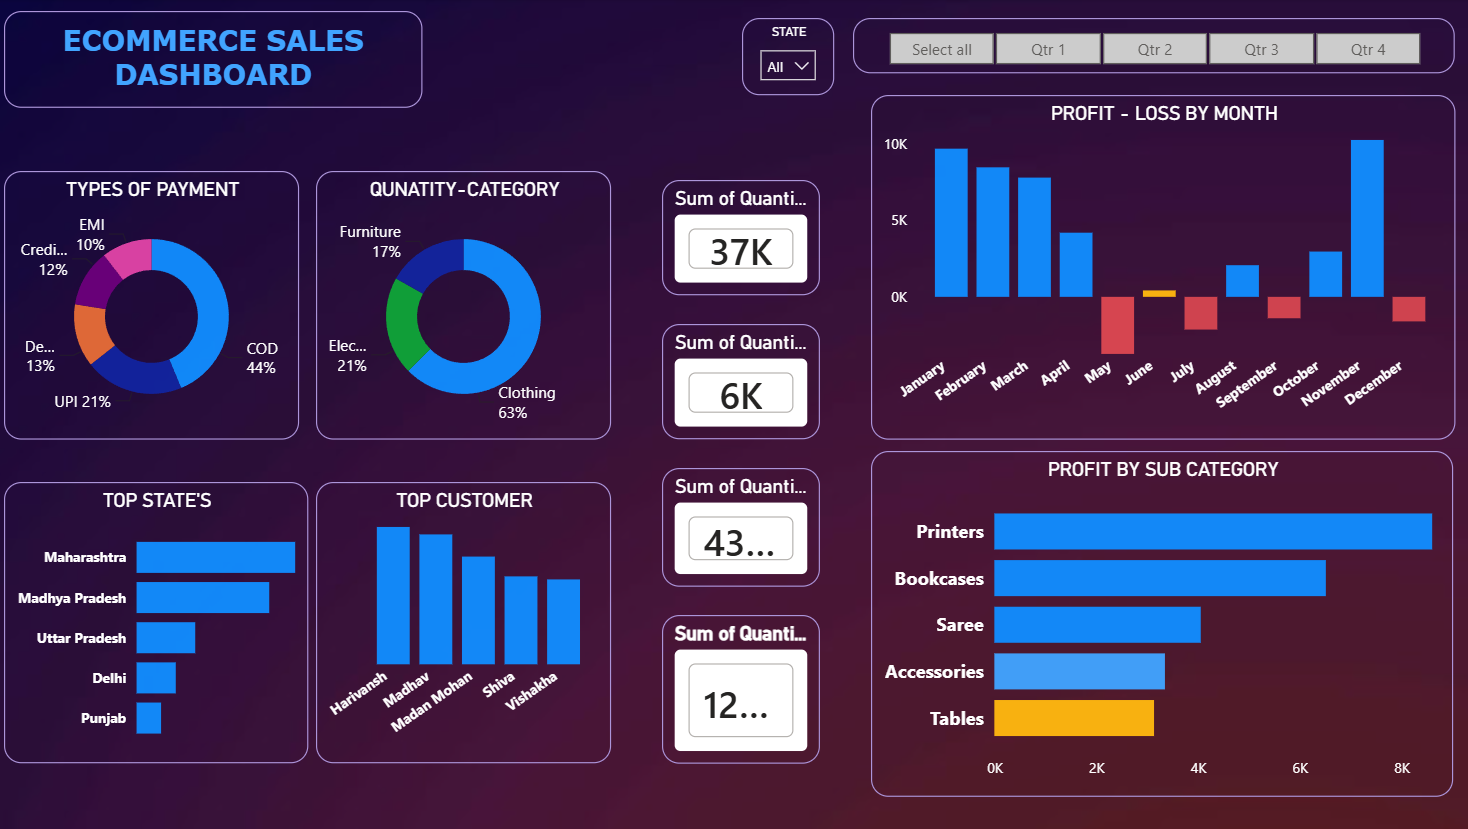

Layout of this report page (visuals, bound fields, positions):
{"tool":"powerbi","page":{"name":"e-commerce dashboard","canvas":[1280,720],"ordinal":0},"visuals":[{"type":"columnChart","title":"PROFIT - LOSS BY MONTH","fields":{"Y":["Sum(Details (1).Profit)"],"Category":["order id.Order Date.Variation.Date Hierarchy.Month"]},"box":[758.7,83.6,506.7,298.6],"z":0},{"type":"barChart","title":"PROFIT BY SUB CATEGORY","fields":{"Category":["Details (1).Sub-Category"],"Y":["Sum(Details (1).Profit)"]},"box":[758.7,392,504.8,299.6],"z":1000},{"type":"donutChart","title":"QUNATITY-CATEGORY","fields":{"Category":["Details (1).Category"],"Y":["Sum(Details (1).Quantity)"]},"box":[277.2,148.8,255.8,233.4],"z":2000},{"type":"donutChart","title":"TYPES OF PAYMENT ","fields":{"Category":["Details (1).PaymentMode"],"Y":["Sum(Details (1).Quantity)"]},"box":[6.8,148.8,255.8,233.4],"z":3000},{"type":"cardVisual","title":"Sum of Quantity","fields":{"Data":["Sum(Details (1).Quantity)"]},"box":[577.8,282.1,137.1,100.2],"z":4000},{"type":"cardVisual","title":"Sum of Quantity","fields":{"Data":["Sum(Details (1).Profit)"]},"box":[577.8,156.6,137.1,100.2],"z":5000},{"type":"barChart","title":"TOP STATE''S","fields":{"Category":["order id.State"],"Y":["Sum(Details (1).Amount)"]},"box":[6.8,419.2,263.6,244.1],"z":6000},{"type":"columnChart","title":"TOP CUSTOMER","fields":{"Category":["order id.CustomerName"],"Y":["Sum(Details (1).Amount)"]},"box":[277.2,419.2,255.8,244.1],"z":7000},{"type":"slicer","fields":{"Values":["order id.Order Date.Variation.Date Hierarchy.Quarter"]},"box":[743.1,16.5,522.3,47.7],"z":8000},{"type":"slicer","title":"STATE","fields":{"Values":["order id.State"]},"box":[646.8,16.5,79.8,67.1],"z":9000},{"type":"cardVisual","title":"Sum of Quantity","fields":{"Data":["Sum(Details (1).Amount)"]},"box":[577.8,406.6,137.1,103.1],"z":10000},{"type":"cardVisual","title":"Sum of Quantity","fields":{"Data":["Sum(Details (1).average)"]},"box":[577.8,534,137.1,129.4],"z":11000},{"type":"textbox","box":[6.8,10.7,362.8,83.6],"z":12000}]}

Visuals, with their boxes in screenshot pixels (x1, y1, x2, y2), scaled from the page's 1280x720 canvas onto the 1468x829 screenshot:
"PROFIT - LOSS BY MONTH" columnChart: left=870, top=96, right=1451, bottom=440
"PROFIT BY SUB CATEGORY" barChart: left=870, top=451, right=1449, bottom=796
"QUNATITY-CATEGORY" donutChart: left=318, top=171, right=611, bottom=440
"TYPES OF PAYMENT " donutChart: left=8, top=171, right=301, bottom=440
"Sum of Quantity" cardVisual: left=663, top=325, right=820, bottom=440
"Sum of Quantity" cardVisual: left=663, top=180, right=820, bottom=296
"TOP STATE''S" barChart: left=8, top=483, right=310, bottom=764
"TOP CUSTOMER" columnChart: left=318, top=483, right=611, bottom=764
slicer - order id.Order Date.Variation.Date Hierarchy.Quarter: left=852, top=19, right=1451, bottom=74
"STATE" slicer: left=742, top=19, right=833, bottom=96
"Sum of Quantity" cardVisual: left=663, top=468, right=820, bottom=587
"Sum of Quantity" cardVisual: left=663, top=615, right=820, bottom=764
textbox: left=8, top=12, right=424, bottom=109
